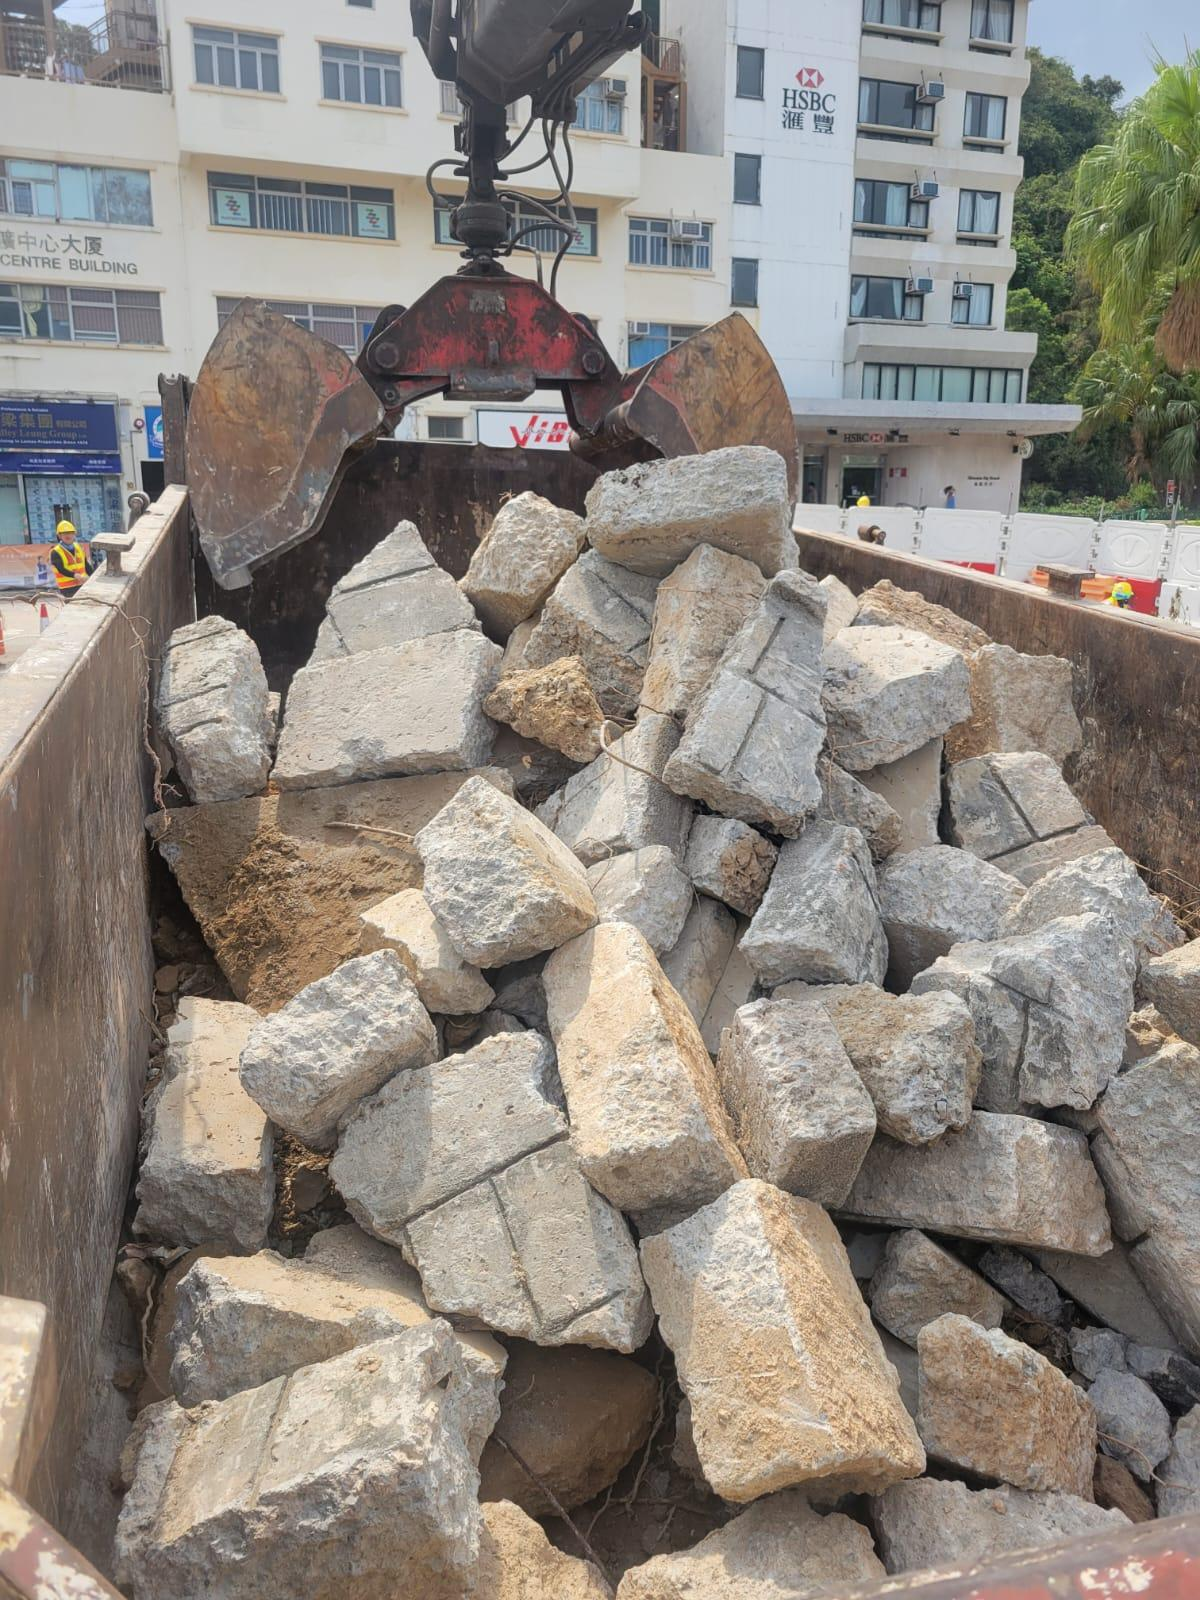dry: (137, 530, 1172, 1585)
